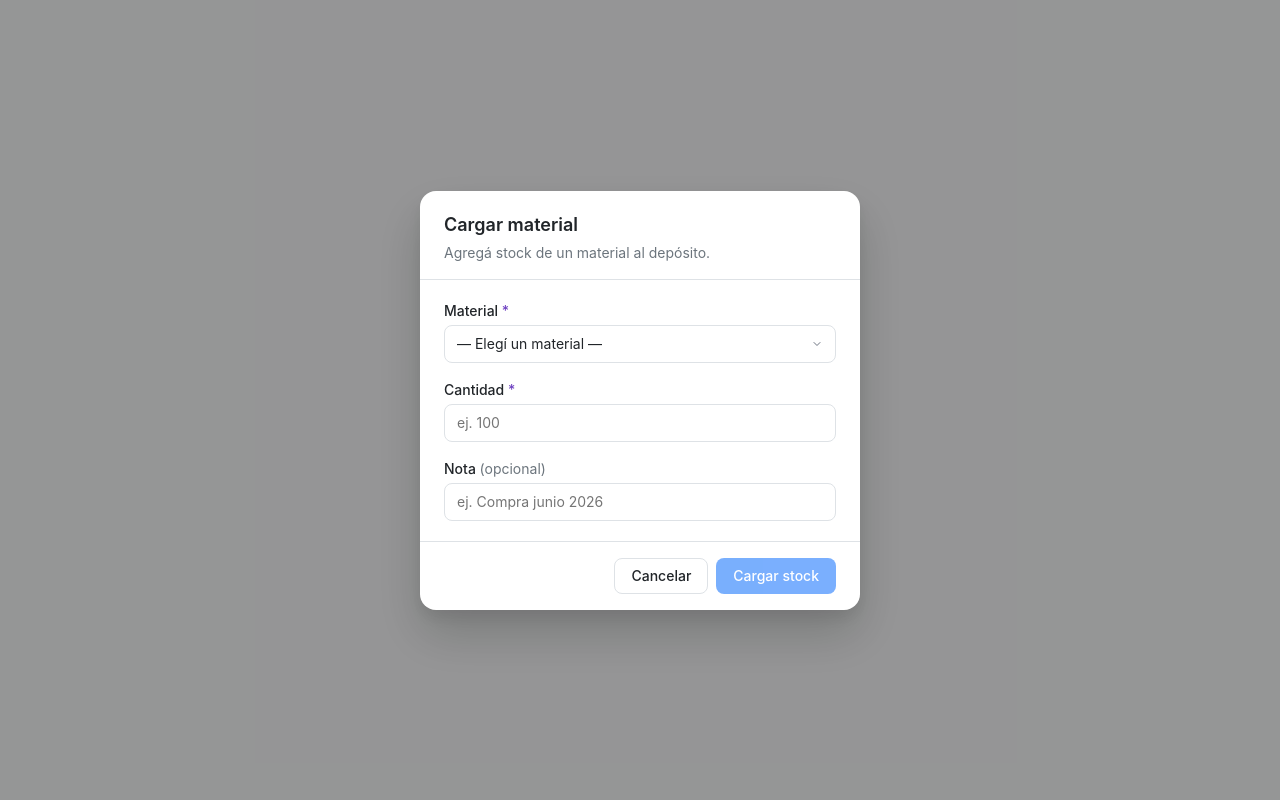
LoadDepotMaterialModal › shows the new qty in a success confirmation after submit
Select "Cable UTP Cat6 (m)" in the dropdown at [640, 344], box [444,324,836,362]
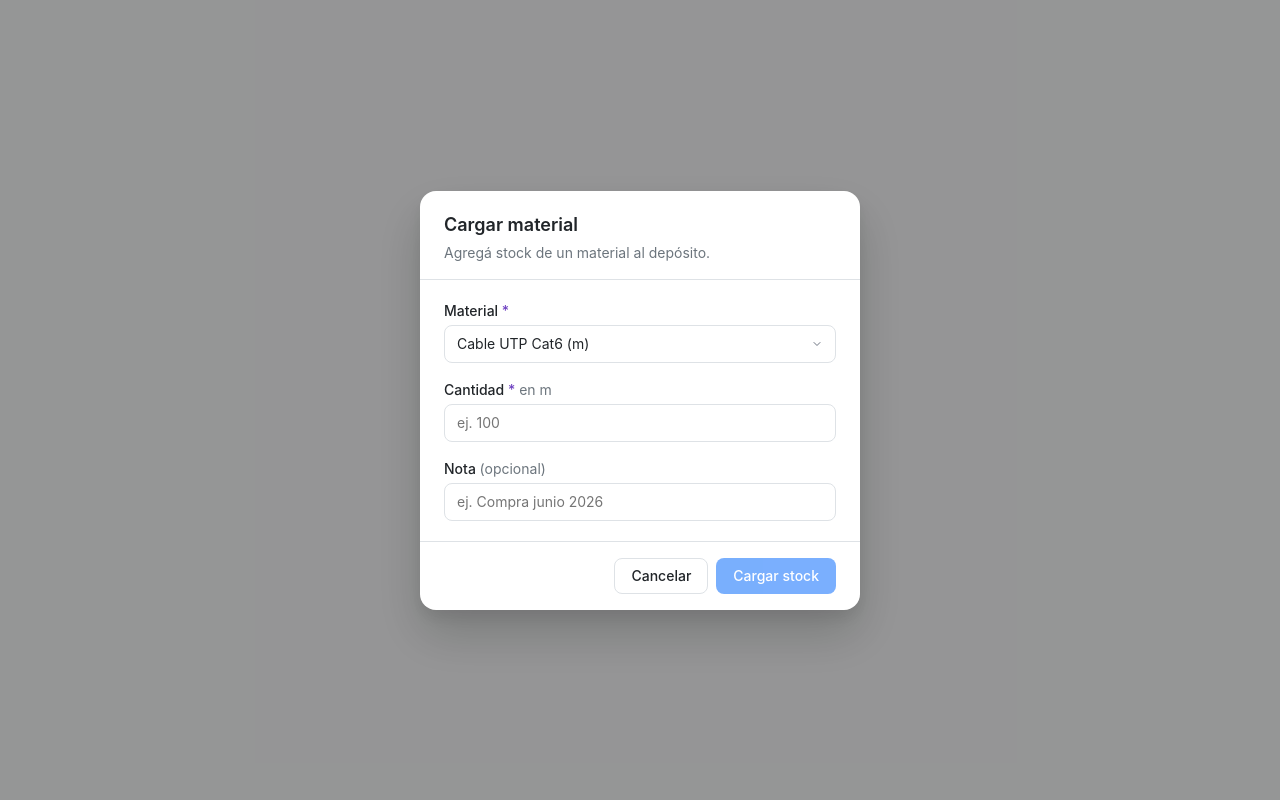
Type "50" into the number field labelled "Cantidad * en m" at [640, 422], box [444,404,836,442]
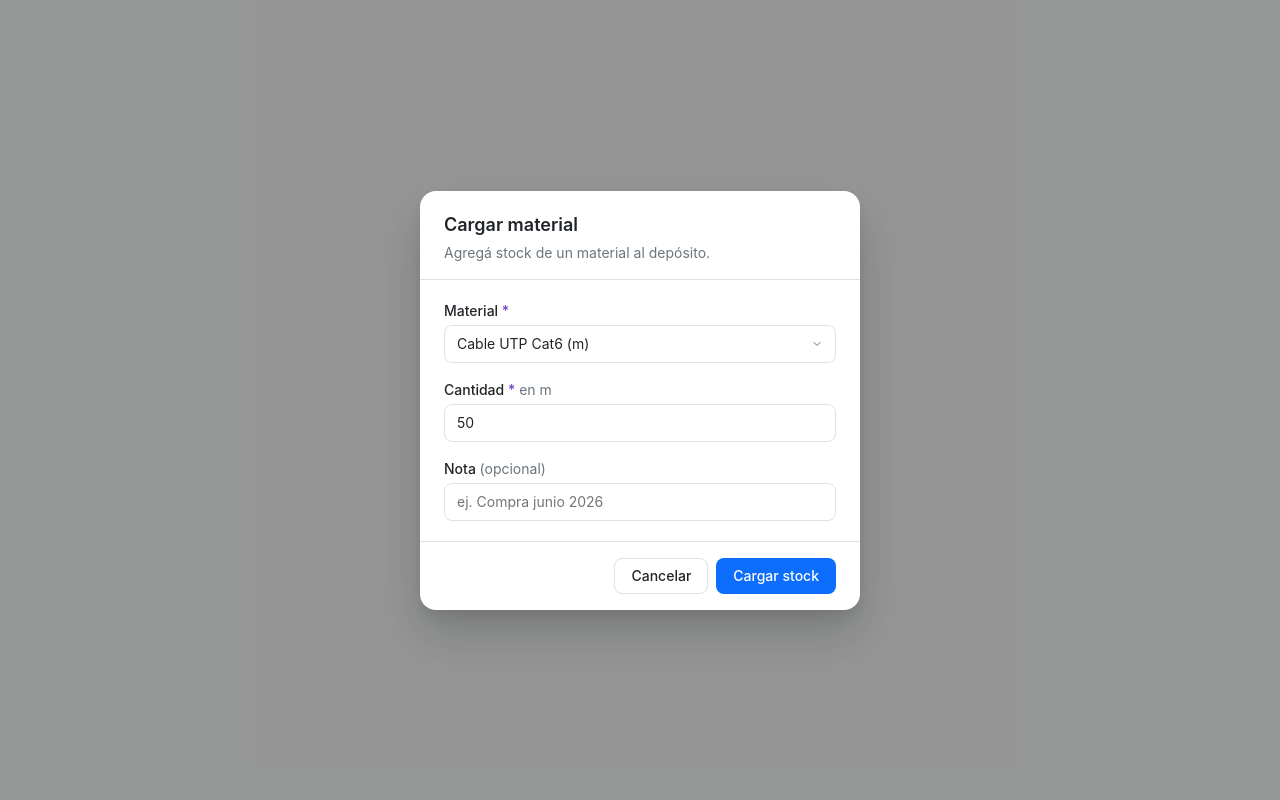
Click the button "Cargar stock" at [776, 576], box [716,558,836,594]
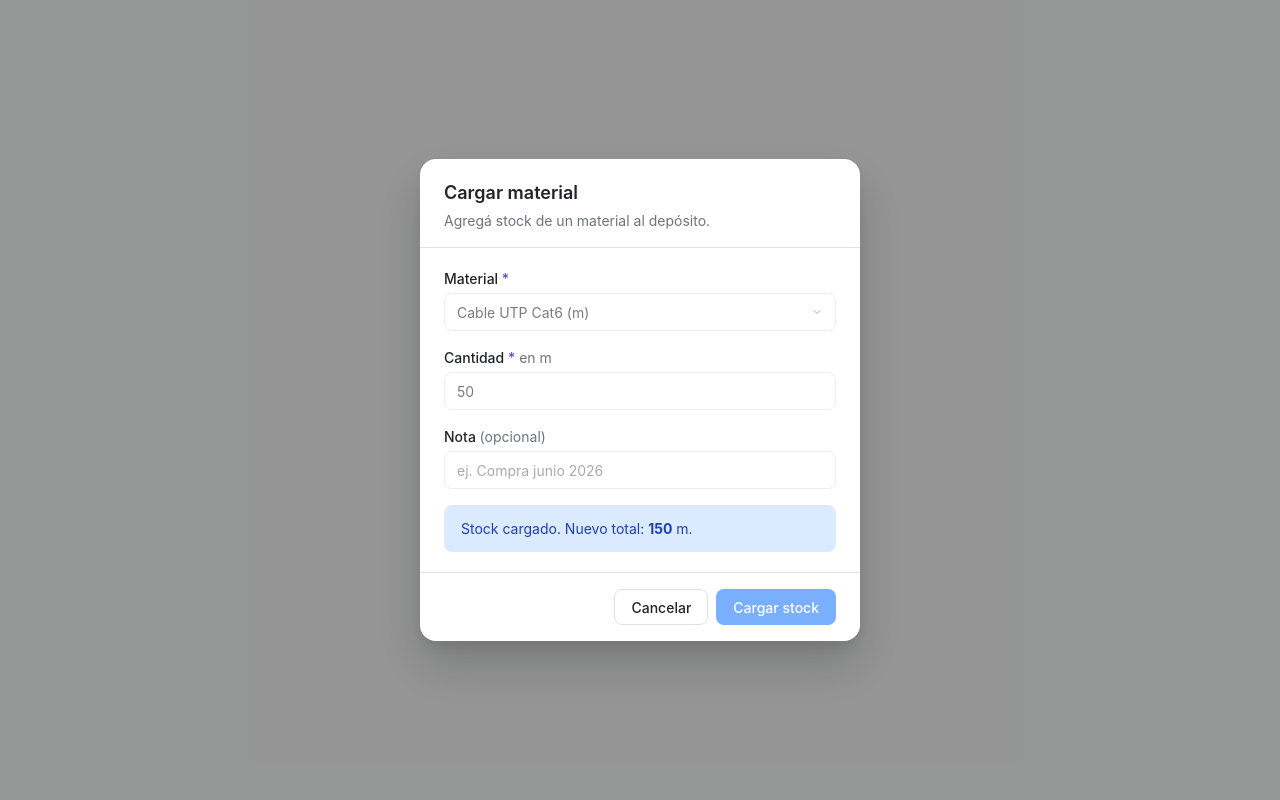
Check: the message shows "150", box [648,520,672,537]
